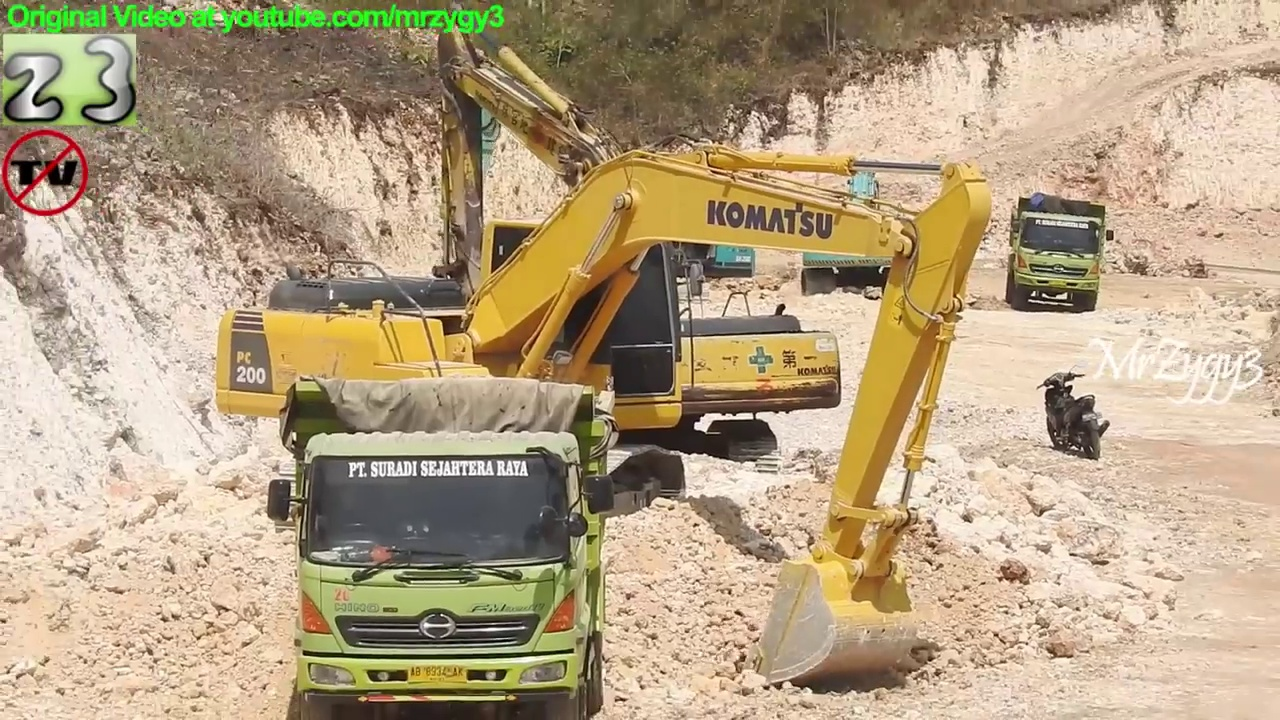excavator: (205, 128, 998, 692), (368, 7, 850, 483), (417, 43, 767, 313), (786, 154, 931, 306)
truck: (262, 371, 626, 720), (1003, 189, 1119, 317)
